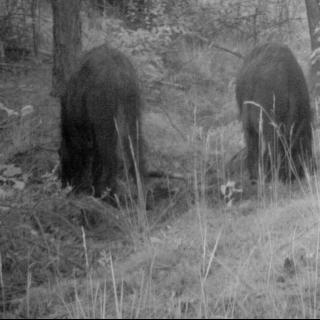Pig: (225, 23, 320, 220), (57, 31, 155, 192)
